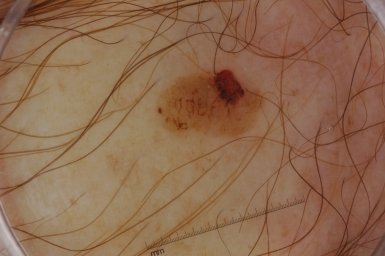seborrheic keratosis: (152, 60, 271, 150)
